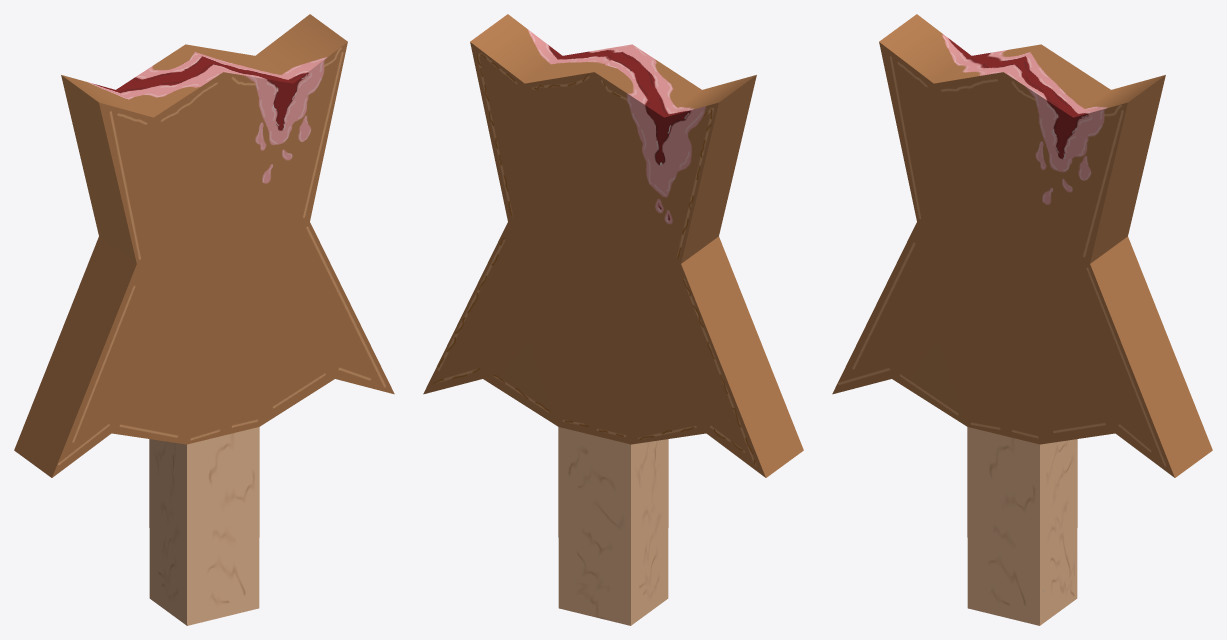
File: Dracula.fbx
The picture shows the model from 3 angles, left to right: view 1: azimuth 30°, elevation 25°; view 2: azimuth 150°, elevation 25°; view 3: azimuth 330°, elevation 25°; orthographic projection.
Visible parts, largest first — view 1: pCube13; view 2: pCube13; view 3: pCube13.
Boxes of the visible parts, x1=… form: pCube13: x1=14, y1=14, x2=394, y2=625; pCube13: x1=423, y1=14, x2=803, y2=625; pCube13: x1=832, y1=14, x2=1212, y2=625.
Bounding box in the file's own units: 20.17 × 30.64 × 3.86.
1 material, 1 textured.
